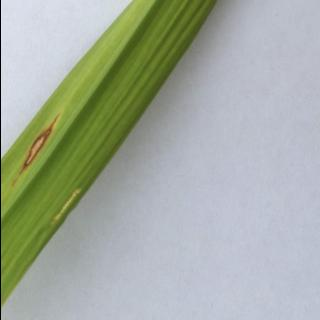Blast: (17, 114, 57, 186)
